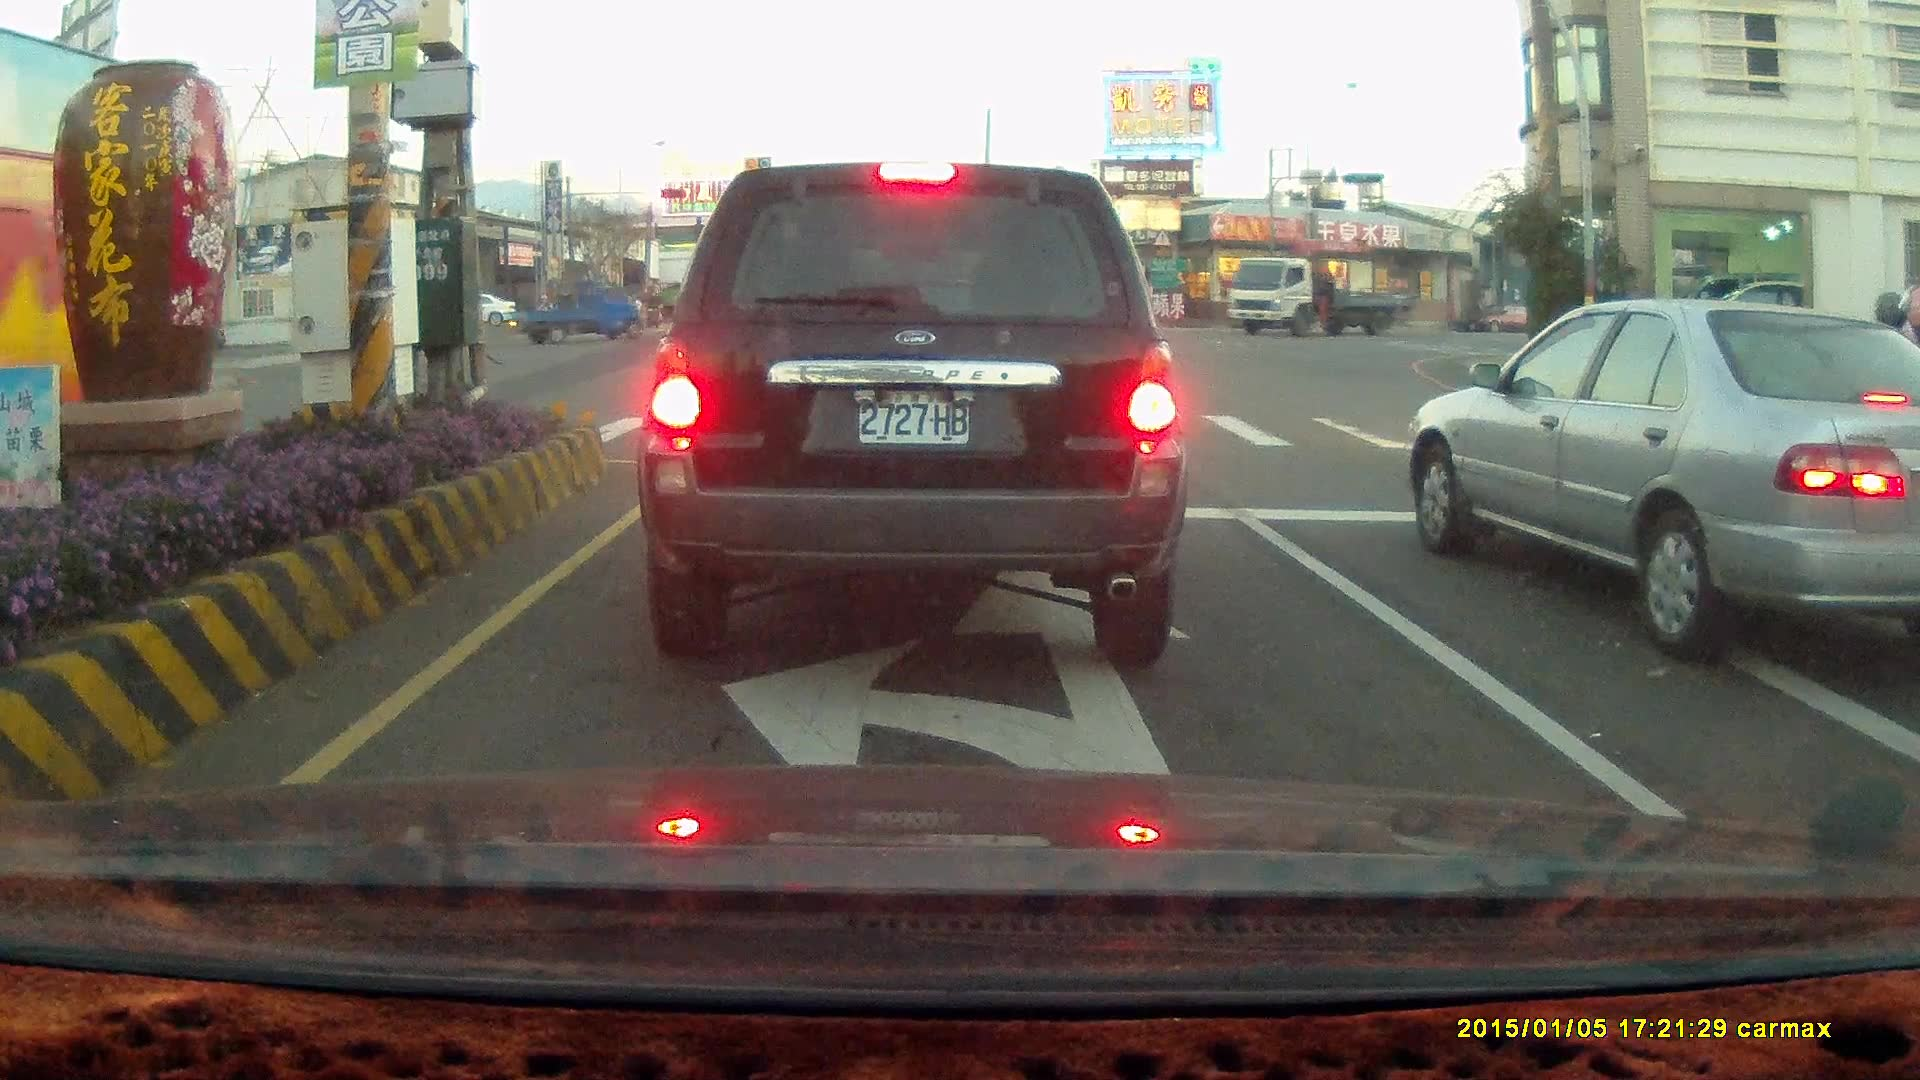rider: (642, 288, 663, 325)
vehicle: (634, 158, 1188, 670), (1398, 295, 1920, 659), (1414, 300, 1920, 661), (720, 254, 936, 344), (1226, 255, 1418, 343), (1650, 275, 1796, 361), (916, 278, 1036, 359), (507, 277, 642, 344), (1896, 493, 1920, 836)
